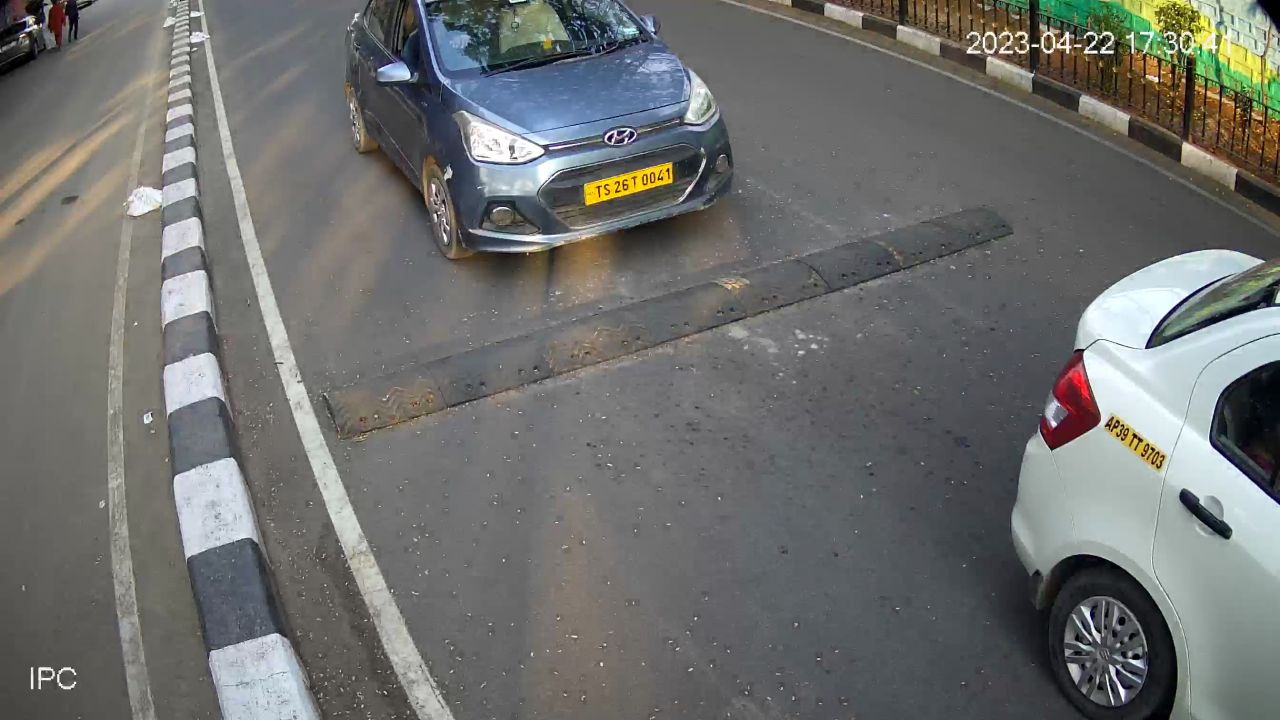license_plate: (580, 156, 681, 211), (1101, 410, 1171, 474)
